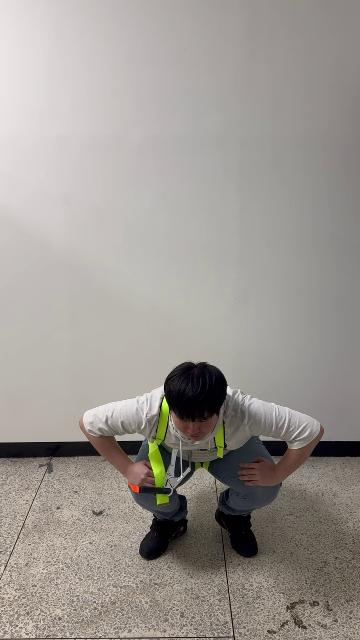helmet_not_worn: (167, 361, 226, 424)
shoe_worn: (139, 514, 189, 560), (215, 506, 257, 557)
vest_worn: (146, 396, 224, 505)
